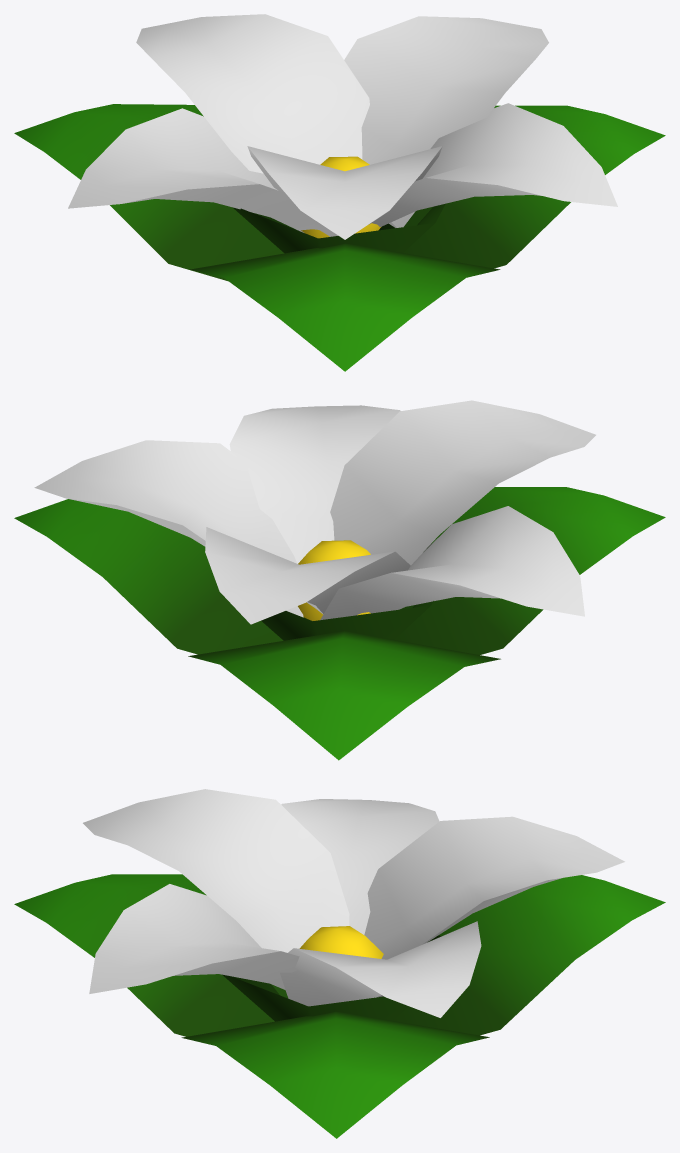
File: Flower_White.fbx
3 renders of one model, top to bottom at view 1: azimuth 30°, elevation 25°; view 2: azimuth 150°, elevation 25°; view 3: azimuth 270°, elevation 25°, orthographic.
Visible parts, largest first — view 1: Flower_White; view 2: Flower_White; view 3: Flower_White.
Part boxes in pixels (x1,y1,x2,y2): Flower_White: (14, 14, 665, 371); Flower_White: (14, 400, 665, 760); Flower_White: (14, 789, 665, 1138).
Bounding box in the file's own units: 16.37 × 5.41 × 15.96.
